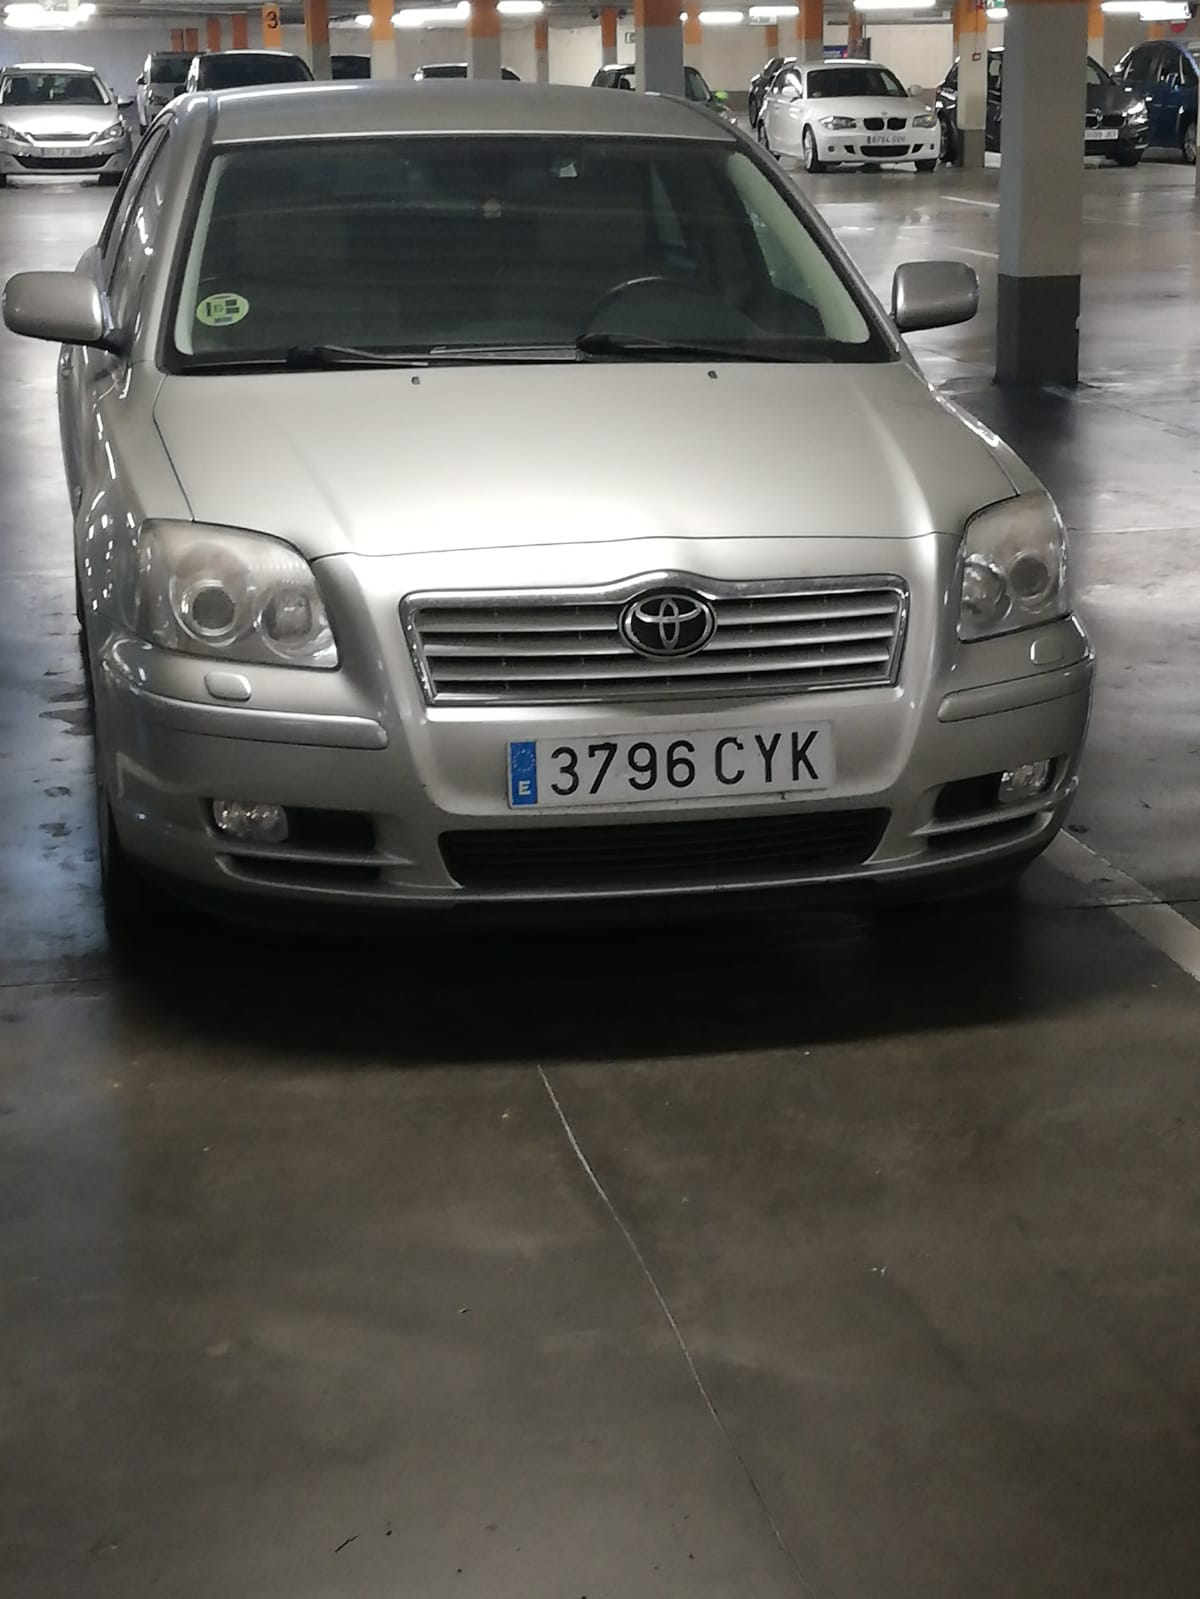Car: (0, 84, 1096, 920)
Plate: (504, 743, 838, 807)
